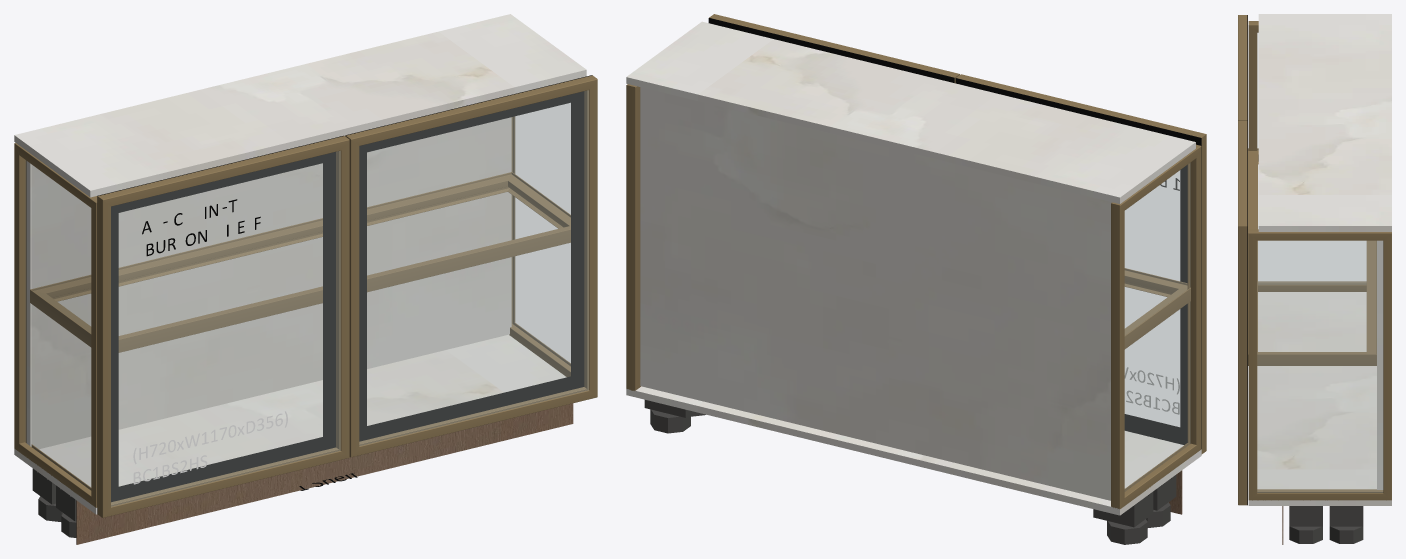
The picture shows the model from 3 angles, left to right: view 1: azimuth 30°, elevation 25°; view 2: azimuth 150°, elevation 25°; view 3: azimuth 270°, elevation 25°; orthographic projection. The views are drawn at different scales.
Size of what is drawn, in the model's own units: 1.17 by 0.82 by 0.3659.
9 materials, 2 textured.
